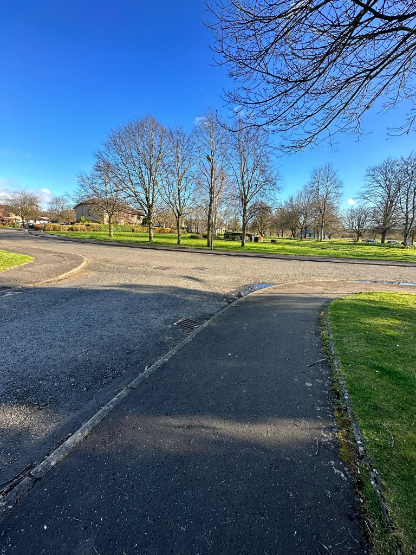tree: (214, 116, 286, 251), (106, 105, 167, 236), (190, 98, 229, 247), (66, 146, 122, 231), (368, 148, 416, 247), (153, 121, 190, 243), (301, 155, 338, 236), (351, 181, 371, 243)
